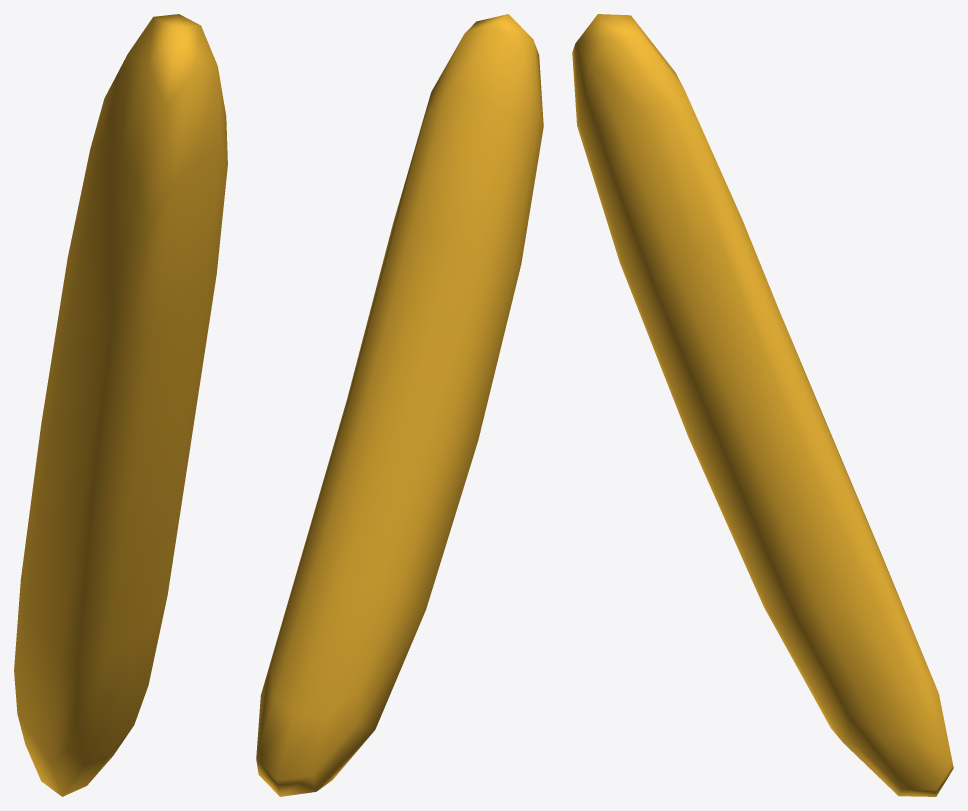
File: nervoso-nucleus-ambiguus-r.glb
3 renders of one model, left to right at view 1: azimuth 30°, elevation 25°; view 2: azimuth 150°, elevation 25°; view 3: azimuth 270°, elevation 25°, orthographic. The views are drawn at different scales.
Parts seen in each view (by area): view 1: Nucleus ambiguus.r; view 2: Nucleus ambiguus.r; view 3: Nucleus ambiguus.r.
Part boxes in pixels (x1,y1,x2,y2): Nucleus ambiguus.r: (14,14,227,796); Nucleus ambiguus.r: (256,14,543,796); Nucleus ambiguus.r: (572,14,953,796).
Bounding box in the file's own units: 0.00144 × 0.00678 × 0.00315.
